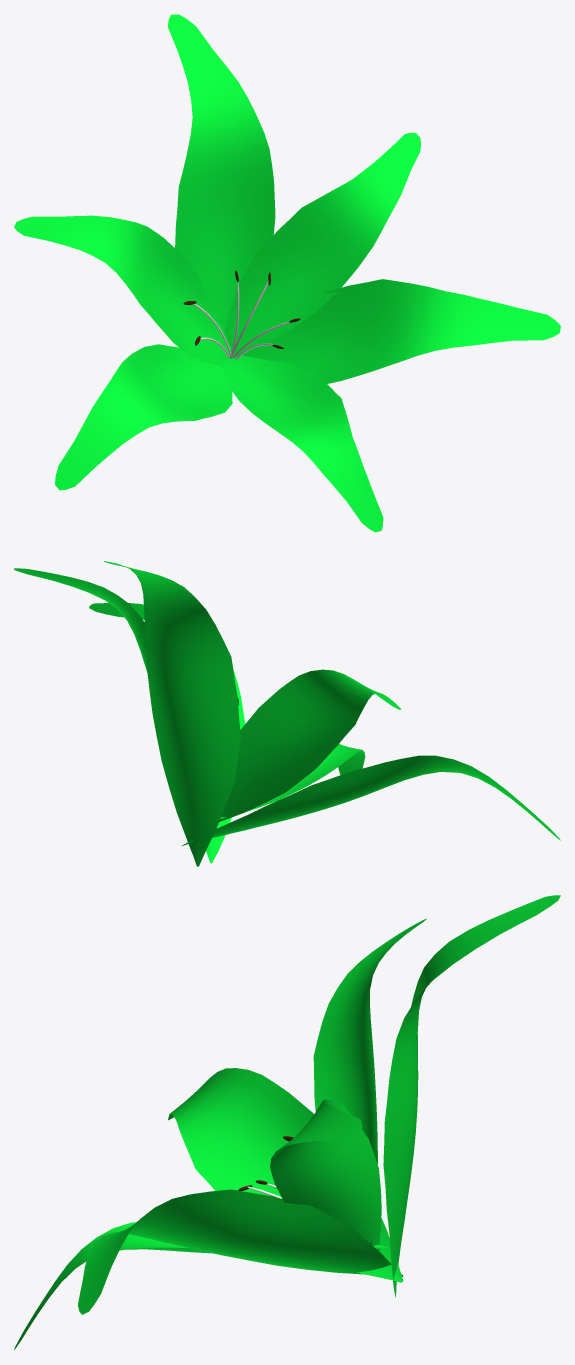
The model's file is flower_green.glb.
3 renders of one model, top to bottom at view 1: azimuth 30°, elevation 25°; view 2: azimuth 150°, elevation 25°; view 3: azimuth 270°, elevation 25°, orthographic. The views are drawn at different scales.
Visible parts, largest first — view 1: petals 1, pistils 3; view 2: petals 1; view 3: petals 1.
Part boxes in pixels (x1,y1,x2,y2): petals 1: [14, 14, 560, 532]; pistils 3: [183, 270, 300, 359]; petals 1: [14, 561, 560, 866]; petals 1: [14, 895, 560, 1350].
Size of the model in its own units: 2.27 by 1.66 by 1.79.
